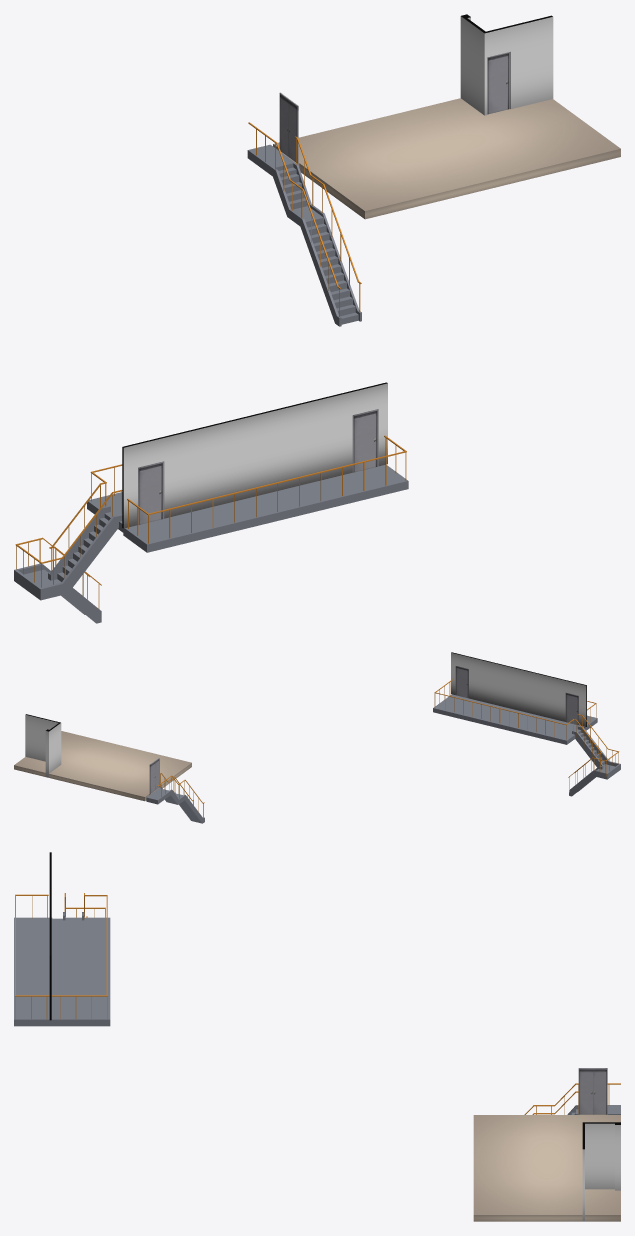
Rendered from soubrain_T1-1-2F.glb.
3 renders of one model, top to bottom at view 1: azimuth 30°, elevation 25°; view 2: azimuth 150°, elevation 25°; view 3: azimuth 270°, elevation 25°, orthographic. The views are drawn at different scales.
Visible parts, largest first — view 1: Line013, Rectangle1045, T1-1_2F, Rectangle021, Rectangle023, Shape007, Group003, Line004, Rectangle024; view 2: Line013, T1-1_2F, Rectangle1045, Group003, Rectangle023, Shape007, Rectangle024, Rectangle021; view 3: Line013, T1-1_2F, Rectangle1045.
Part boxes in pixels (left/top/right/bottom): Line013: left=273, top=14, right=620, bottom=219; Rectangle1045: left=122, top=382, right=387, bottom=528; T1-1_2F: left=14, top=92, right=408, bottom=623; Rectangle021: left=278, top=167, right=358, bottom=324; Rectangle023: left=272, top=163, right=361, bottom=326; Shape007: left=273, top=136, right=361, bottom=316; Group003: left=15, top=483, right=112, bottom=608; Line004: left=24, top=517, right=108, bottom=587; Rectangle024: left=247, top=144, right=294, bottom=175; Line013: left=14, top=714, right=191, bottom=801; T1-1_2F: left=149, top=666, right=620, bottom=796; Rectangle1045: left=451, top=652, right=586, bottom=726; Group003: left=568, top=715, right=619, bottom=792; Rectangle023: left=159, top=787, right=204, bottom=823; Shape007: left=160, top=773, right=204, bottom=817; Rectangle024: left=146, top=788, right=170, bottom=804; Rectangle021: left=165, top=793, right=200, bottom=823; Line013: left=473, top=1114, right=620, bottom=1221; T1-1_2F: left=14, top=893, right=620, bottom=1114; Rectangle1045: left=49, top=852, right=51, bottom=1020.
Size of the model in its own units: 31.97 by 7 by 25.07.
9 materials, 7 textured.
